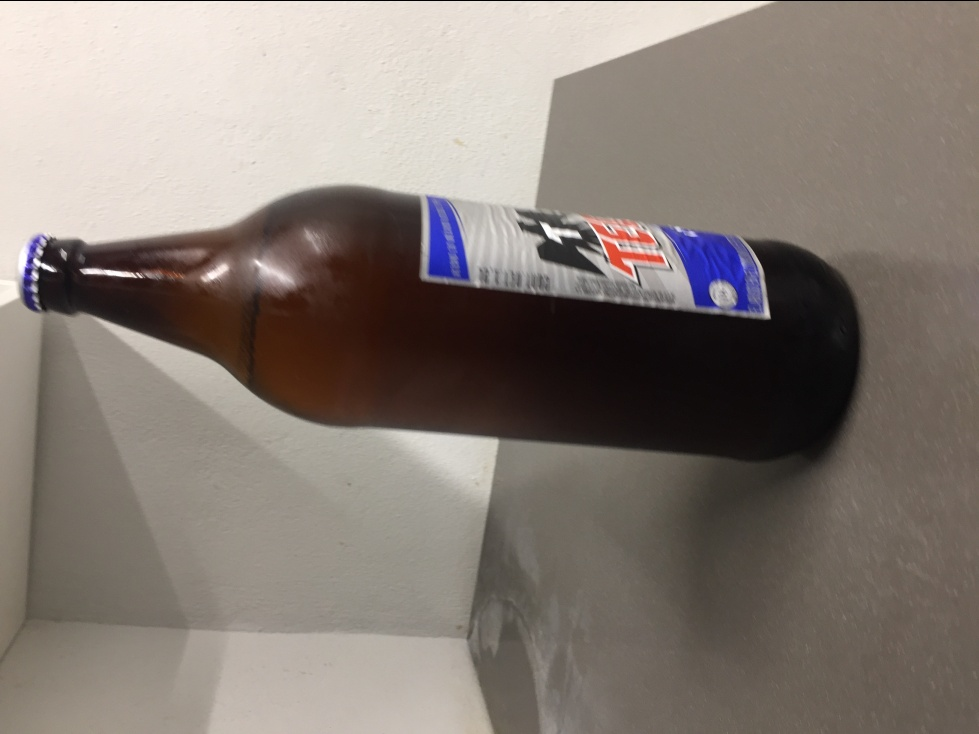tecateC: (15, 181, 862, 459)
